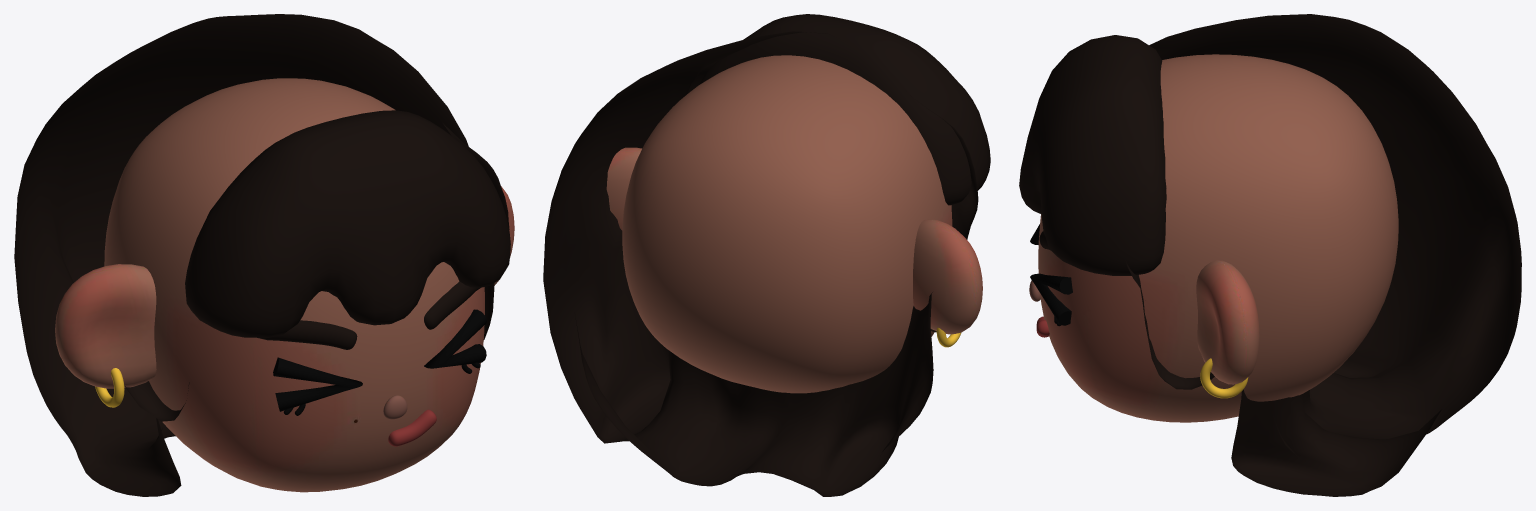
File: chibi-enthousiaste.glb
3 views of the same model, side by side, from view 1: azimuth 30°, elevation 25°; view 2: azimuth 150°, elevation 25°; view 3: azimuth 270°, elevation 25° (orthographic). The views are drawn at different scales.
Visible parts, largest first — view 1: head.004, back.004, bangs.004, ears.004, brows.004, eyes.007, eyes.006, mouth.004, earrings.004; view 2: head.004, back.004, bangs.004, ears.004; view 3: head.004, back.004, bangs.004, ears.004, eyes.006, earrings.004.
Boxes of the visible parts, <box> form: head.004: <box>104,78,484,492</box>; back.004: <box>14,14,509,496</box>; bangs.004: <box>185,110,510,337</box>; ears.004: <box>55,186,514,388</box>; brows.004: <box>257,281,480,349</box>; eyes.007: <box>273,357,362,411</box>; eyes.006: <box>424,309,486,368</box>; mouth.004: <box>388,409,436,446</box>; earrings.004: <box>95,368,124,407</box>; head.004: <box>622,55,952,393</box>; back.004: <box>543,31,978,496</box>; bangs.004: <box>699,14,990,205</box>; ears.004: <box>606,147,982,334</box>; head.004: <box>1038,54,1398,422</box>; back.004: <box>1124,14,1521,496</box>; bangs.004: <box>1019,35,1166,275</box>; ears.004: <box>1196,260,1259,384</box>; eyes.006: <box>1030,273,1072,325</box>; earrings.004: <box>1200,358,1248,398</box>.
Bounding box in the file's own units: 2.16 × 1.95 × 2.23.
7 materials, 2 textured.
